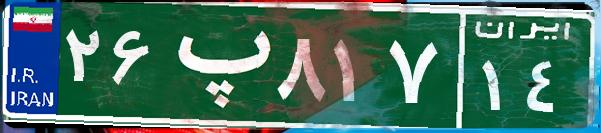1: (330, 28, 385, 110), (475, 38, 525, 113)
2: (57, 26, 110, 107)
4: (525, 38, 570, 115)
6: (110, 28, 158, 105)
7: (385, 28, 445, 110)
8: (273, 28, 330, 110)
پ: (158, 15, 273, 115)
